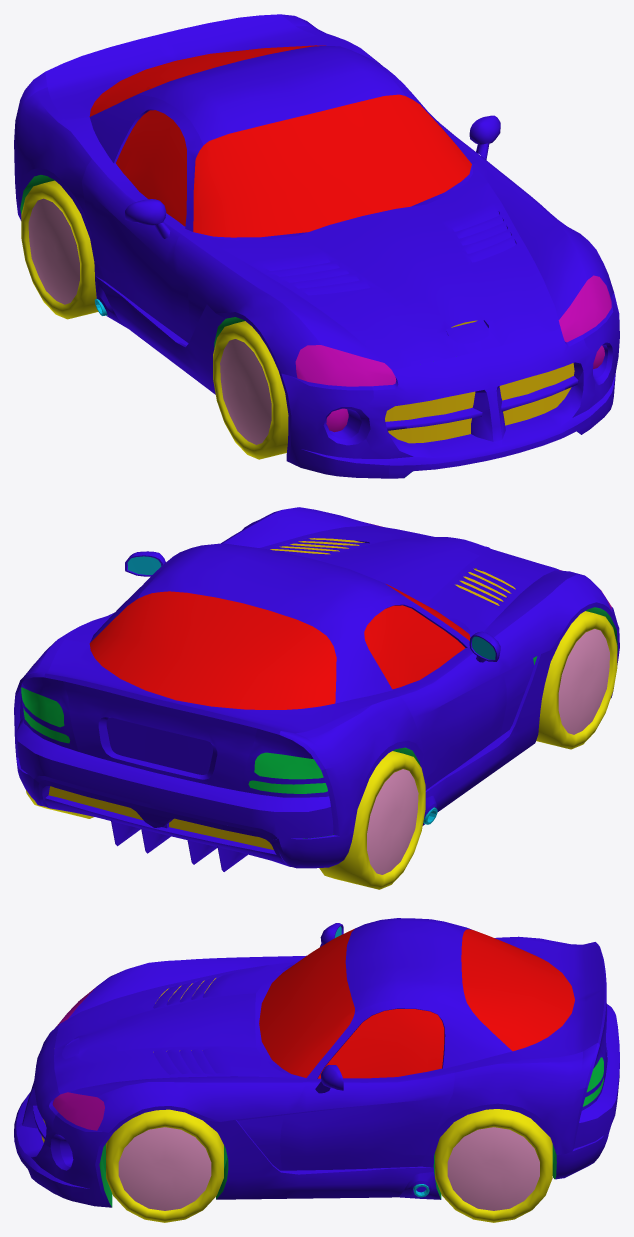
Rendered from Car11_ColorCoded.fbx.
3 renders of one model, top to bottom at view 1: azimuth 30°, elevation 25°; view 2: azimuth 150°, elevation 25°; view 3: azimuth 270°, elevation 25°, orthographic. The views are drawn at different scales.
Visible parts, largest first — view 1: carBody, tireBackR, tireFrontR; view 2: carBody, tireBackR, tireFrontR; view 3: carBody, tireBackL, tireFrontL.
Part boxes in pixels (x1,y1,x2,y2): carBody: (14, 14, 619, 478); tireBackR: (21, 180, 98, 319); tireFrontR: (213, 321, 288, 459); carBody: (14, 507, 619, 871); tireBackR: (319, 751, 425, 889); tireFrontR: (536, 611, 617, 749); carBody: (14, 918, 619, 1207); tireBackL: (435, 1109, 552, 1222); tireFrontL: (106, 1109, 223, 1222).
Size of the model in its own units: 70.21 by 115 by 42.52.
